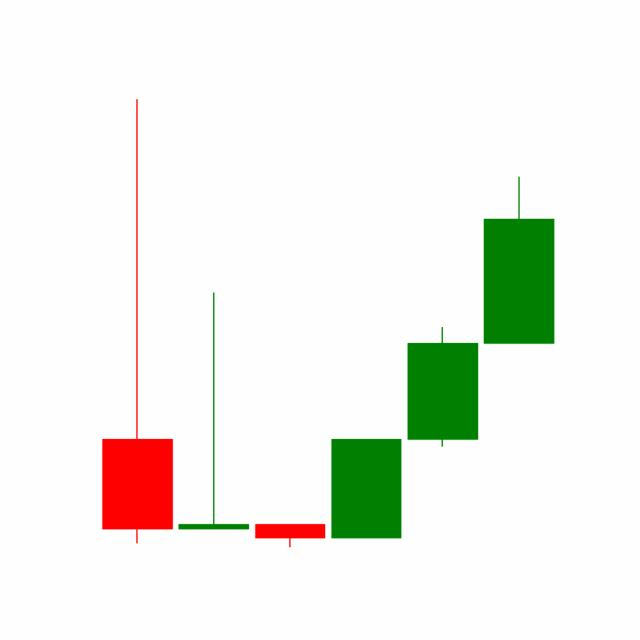Marubozu: (403, 324, 481, 448)
